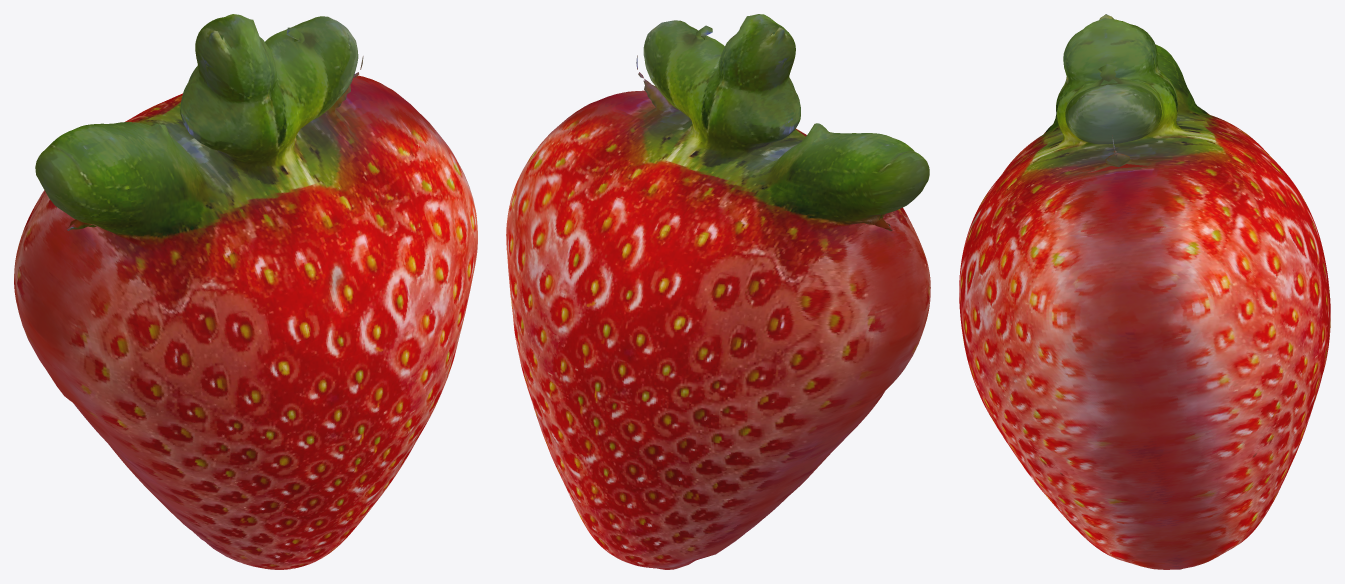
File: strawberry.glb
The picture shows the model from 3 angles, left to right: view 1: azimuth 30°, elevation 25°; view 2: azimuth 150°, elevation 25°; view 3: azimuth 270°, elevation 25°; orthographic projection. The views are drawn at different scales.
Parts seen in each view (by area): view 1: Object_5; view 2: Object_5; view 3: Object_5.
Boxes of the visible parts, box(x1,y1,x2,y2) form: Object_5: box(14, 14, 477, 569); Object_5: box(506, 14, 930, 569); Object_5: box(959, 14, 1330, 569).
Bounding box in the file's own units: 3.05 × 4.09 × 2.67.
1 material, 1 textured.
